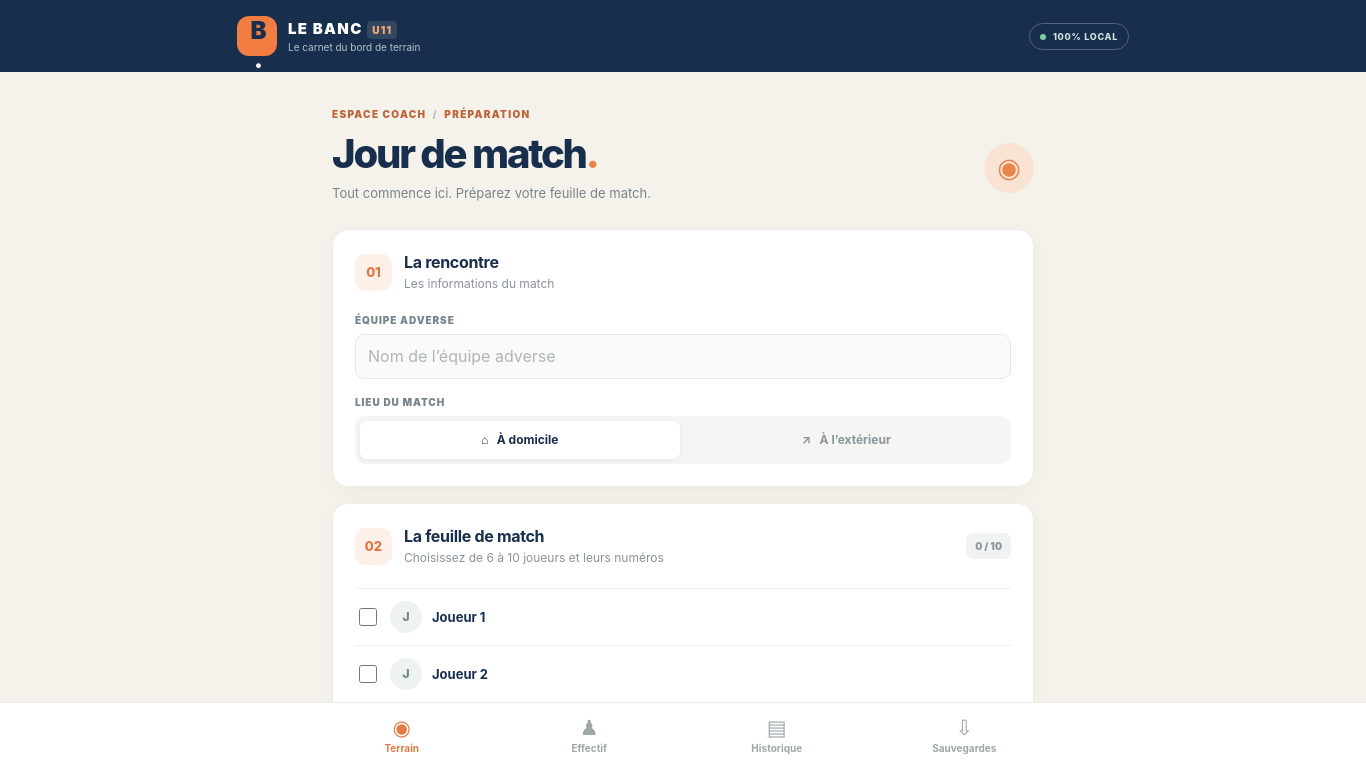
Scenario: coach workflow › automatic file backup › can reopen and initialize an empty file after a stale-handle creation failure
Expected: the heading "Jour de match." is shown, [332,129,598,178]
Click the button "⇩ Sauvegardes" at (964, 736), box [870,703,1058,767]
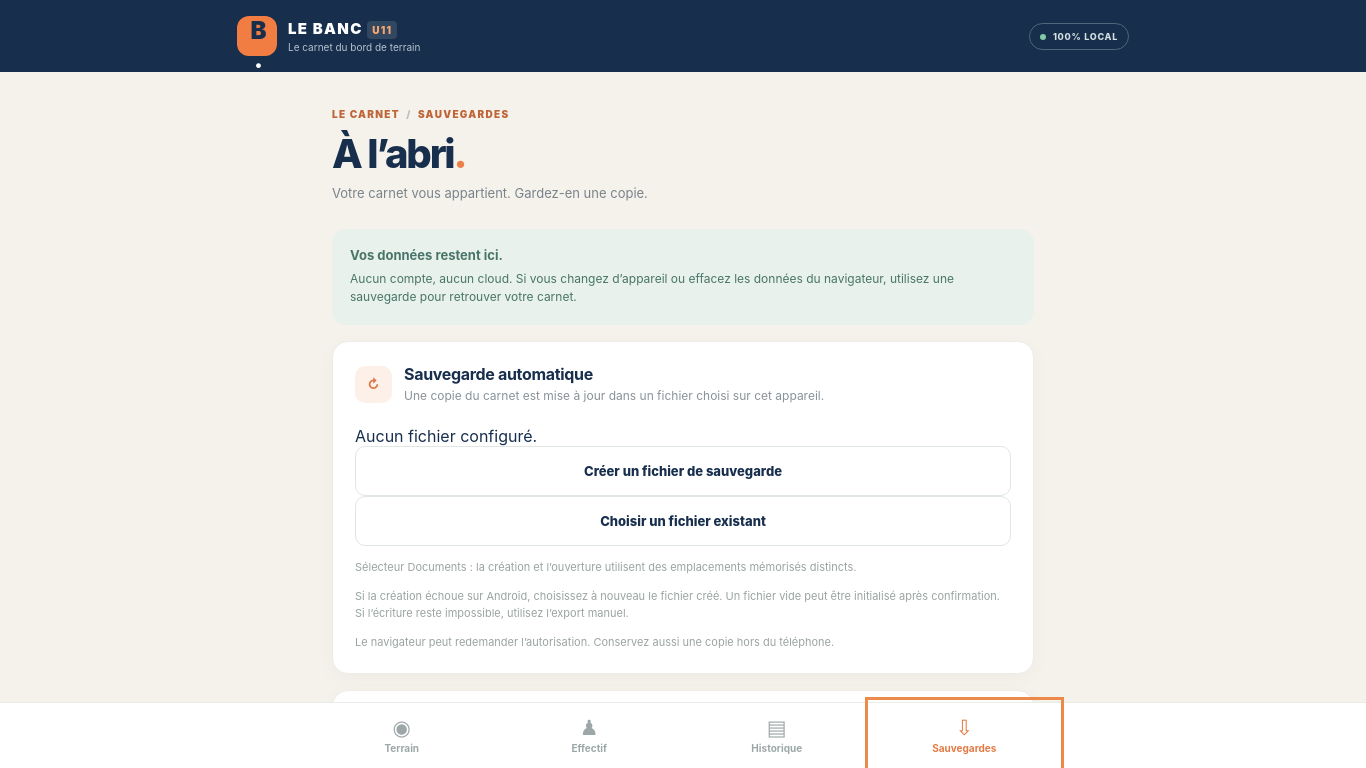
Click the button "Créer un fichier de sauvegarde" at (683, 471), box [355,446,1011,496]
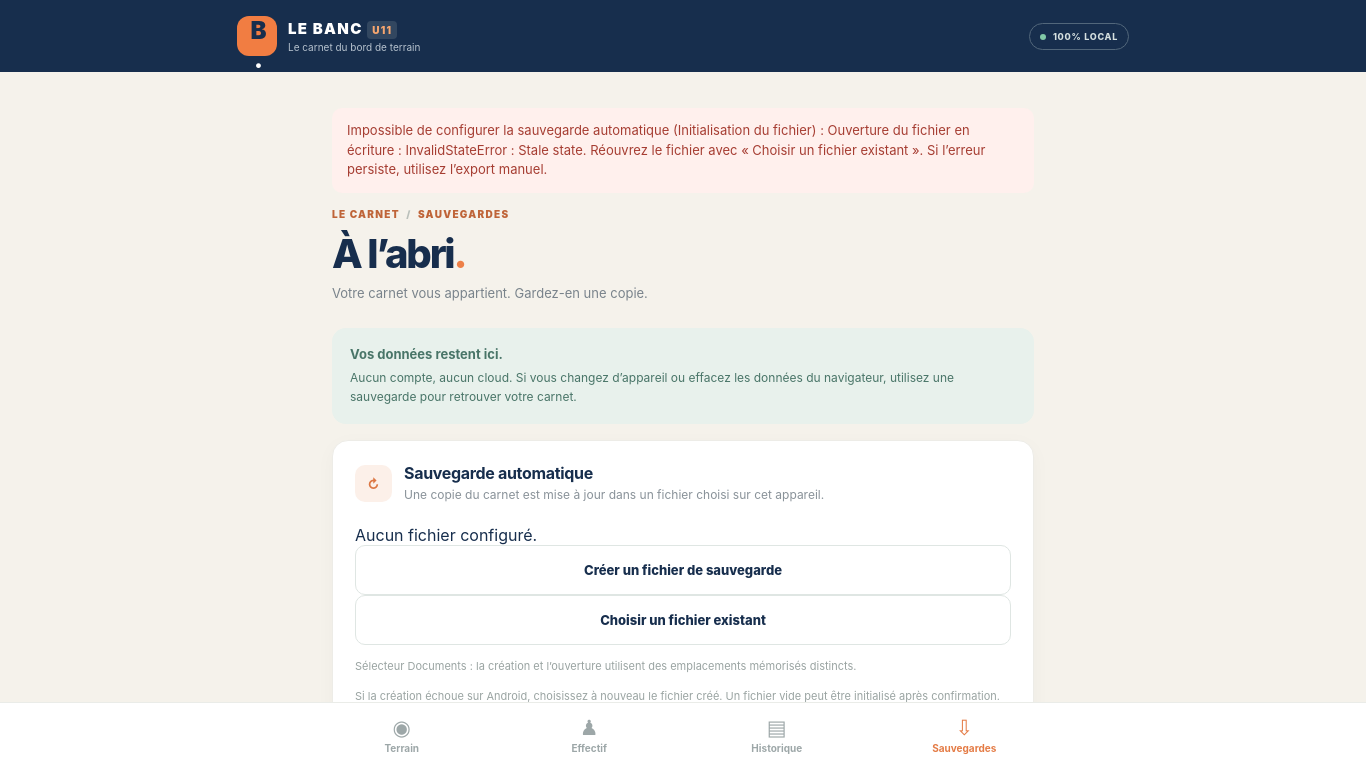
Now the message shows "Ouverture du fichier en écriture", box [347,122,985,177]
Now the message shows "Choisir un fichier existant", box [347,122,985,177]
Click the button "Choisir un fichier existant" at (683, 620), box [355,595,1011,645]
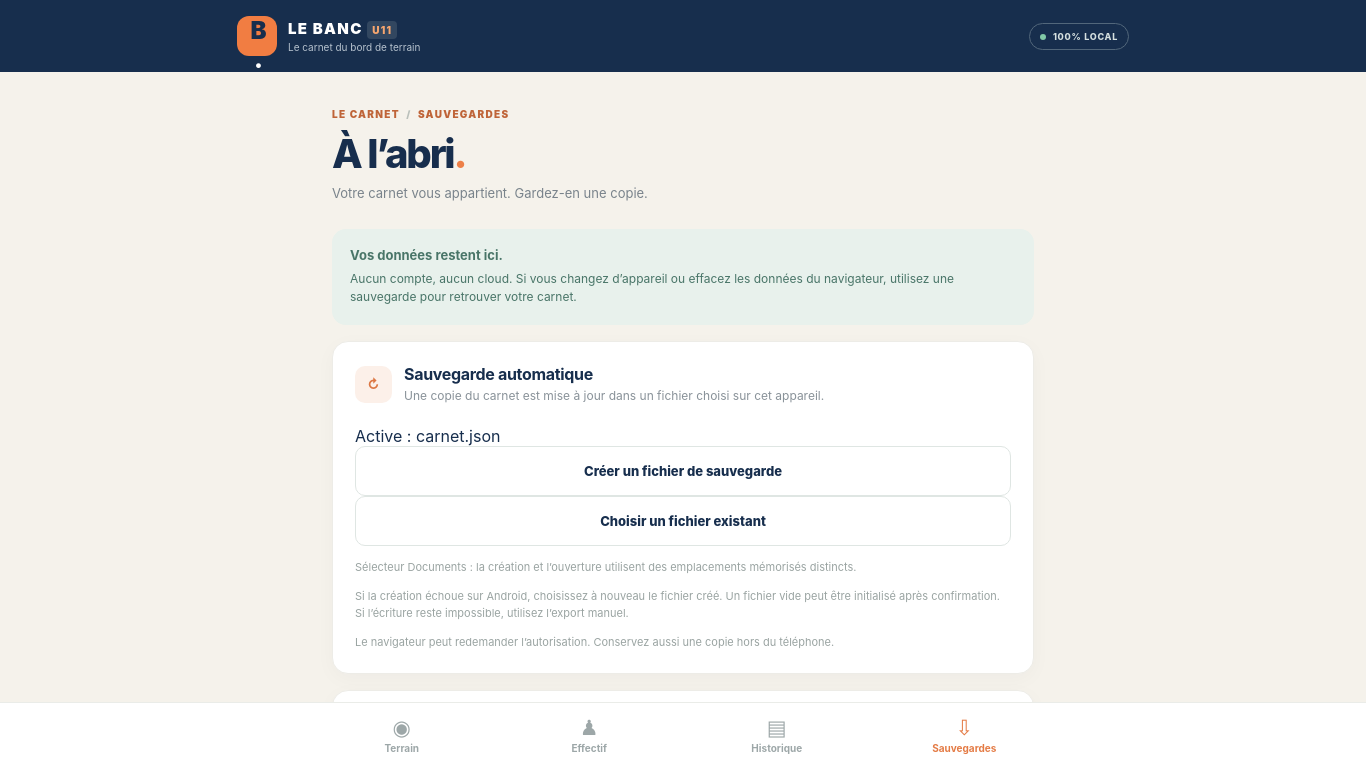
Now the text "Active : carnet.json" is shown, box [355,426,500,446]
